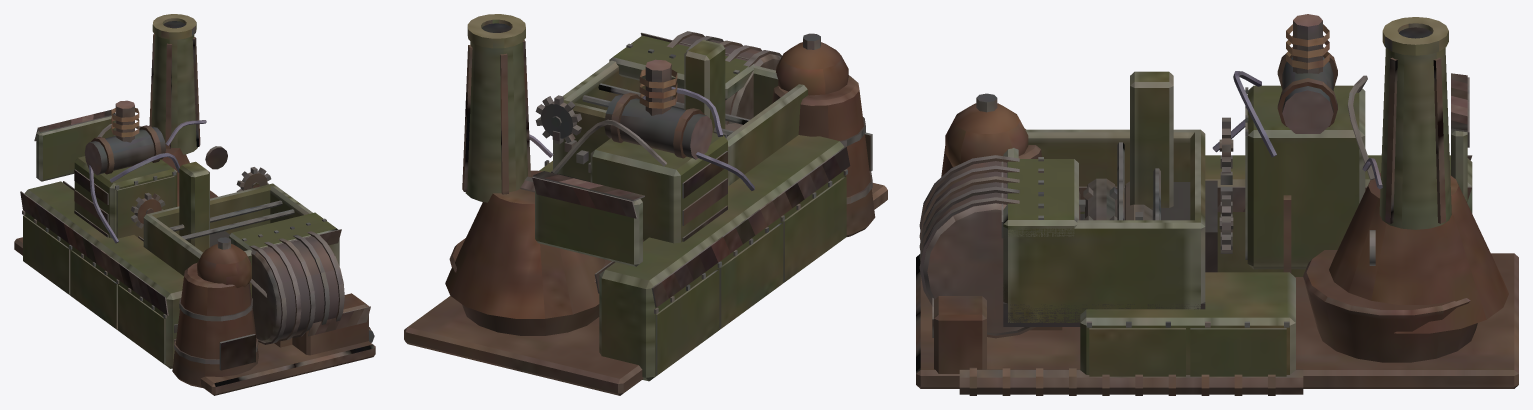
Rendered from recycler.glb.
3 renders of one model, left to right at view 1: azimuth 30°, elevation 25°; view 2: azimuth 150°, elevation 25°; view 3: azimuth 270°, elevation 25°, orthographic. The views are drawn at different scales.
Visible parts, largest first — view 1: body, anim_slide_recycler_drum, anim_slide_recycler_panel; view 2: body, anim_slide_recycler_panel, anim_slide_recycler_drum; view 3: body, anim_slide_recycler_drum, anim_slide_recycler_panel, anim_roll_recycler.001, anim_roll_recycler.002.
Boxes of the visible parts, x1,y1,x2,y2 form: body: (14, 14, 375, 395); anim_slide_recycler_drum: (249, 231, 344, 344); anim_slide_recycler_panel: (34, 109, 115, 181); body: (404, 14, 887, 395); anim_slide_recycler_panel: (520, 171, 644, 266); anim_slide_recycler_drum: (667, 31, 781, 124); body: (916, 14, 1518, 395); anim_slide_recycler_drum: (919, 155, 1035, 338); anim_slide_recycler_panel: (1451, 73, 1469, 201); anim_roll_recycler.001: (1083, 178, 1117, 220); anim_roll_recycler.002: (1124, 181, 1152, 220).
Size of the model in its own units: 2.15 by 2.45 by 4.
2 materials, 2 textured.
